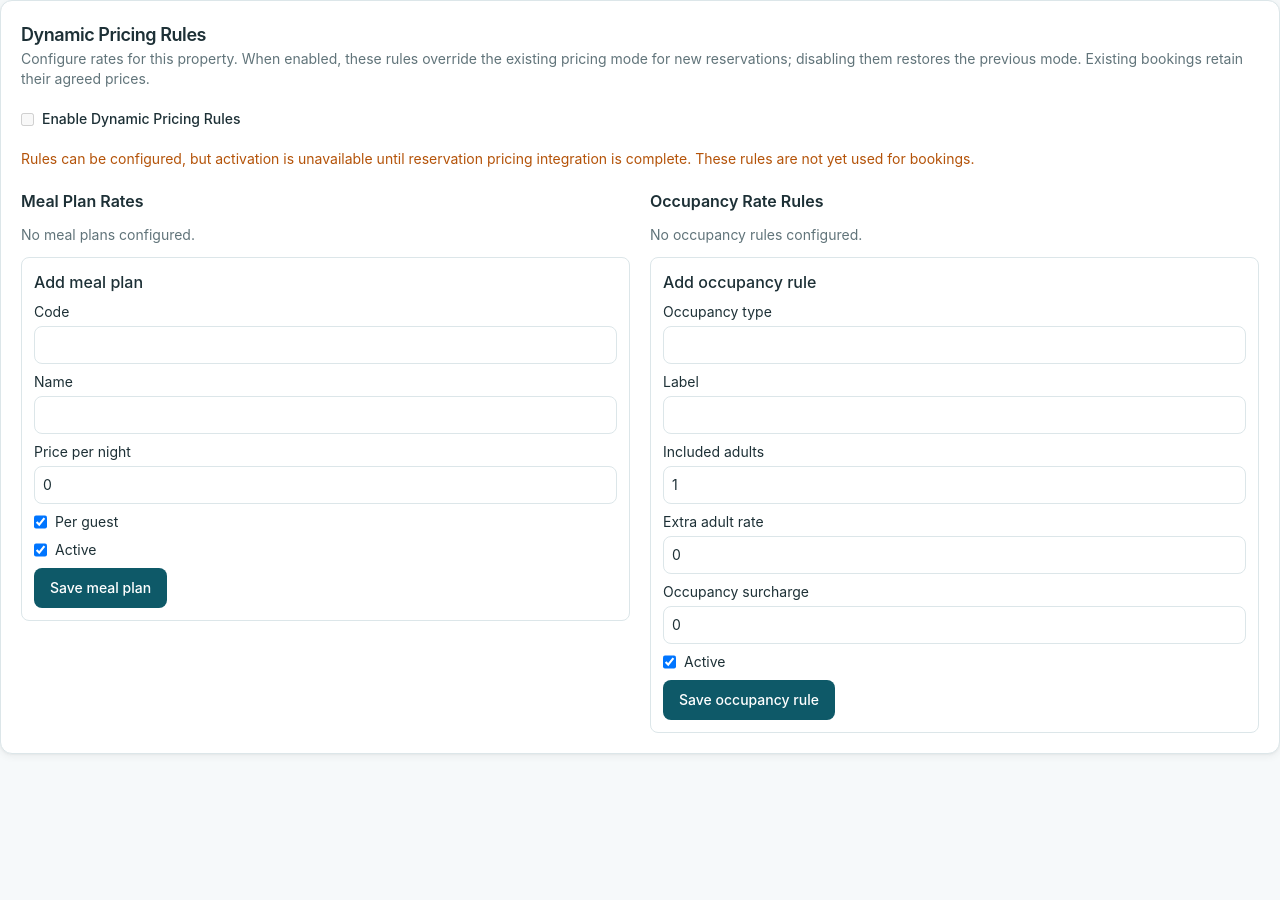
Test: creates a meal rate and shows that activation is unavailable
Expected: the checkbox labelled "Enable Dynamic Pricing Rules" is disabled, [21, 112, 34, 126]
Type "BB" into the field labelled "Code" at (326, 345), box [34, 326, 617, 364]
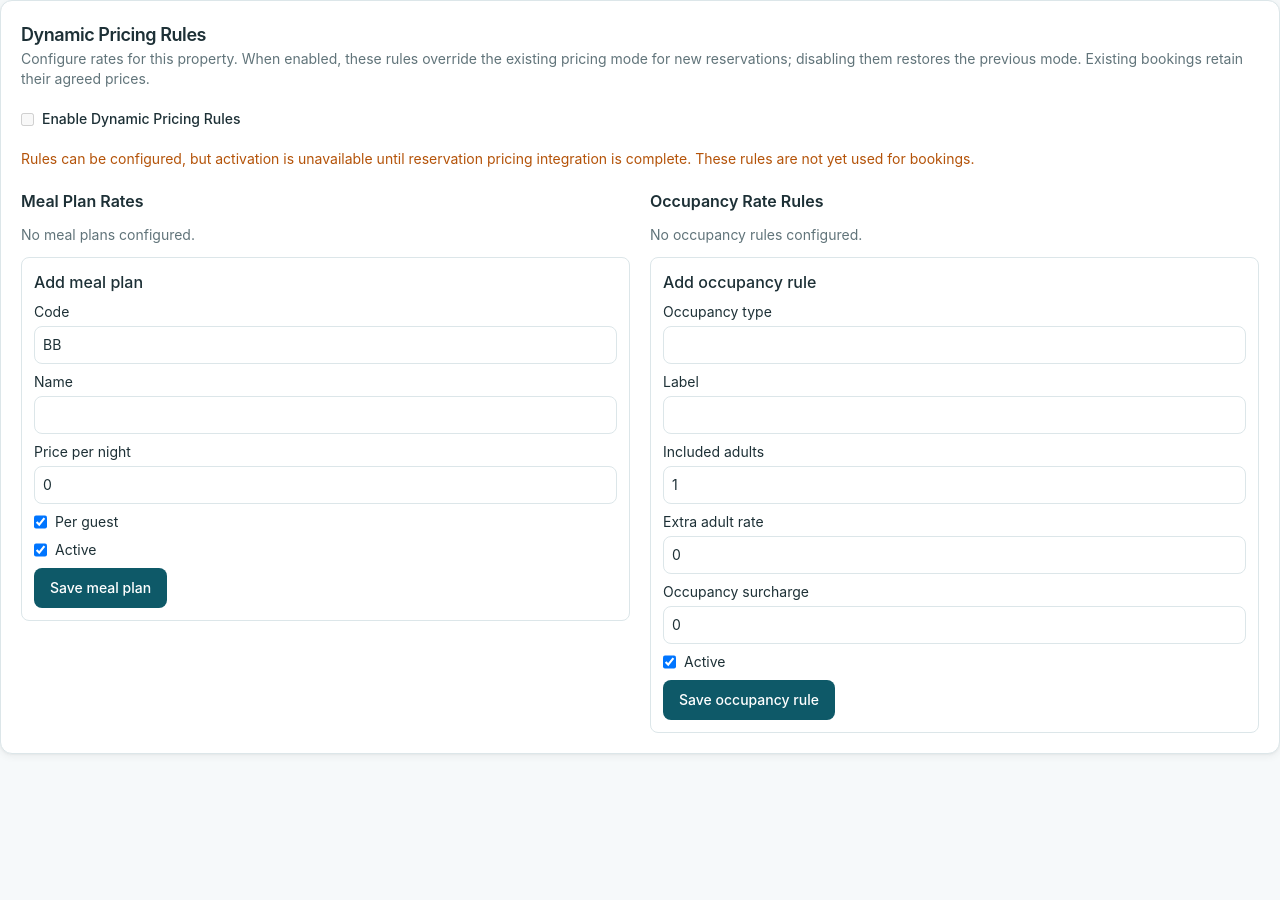
Type "Breakfast" into the field labelled "Name" at (326, 415), box [34, 396, 617, 434]
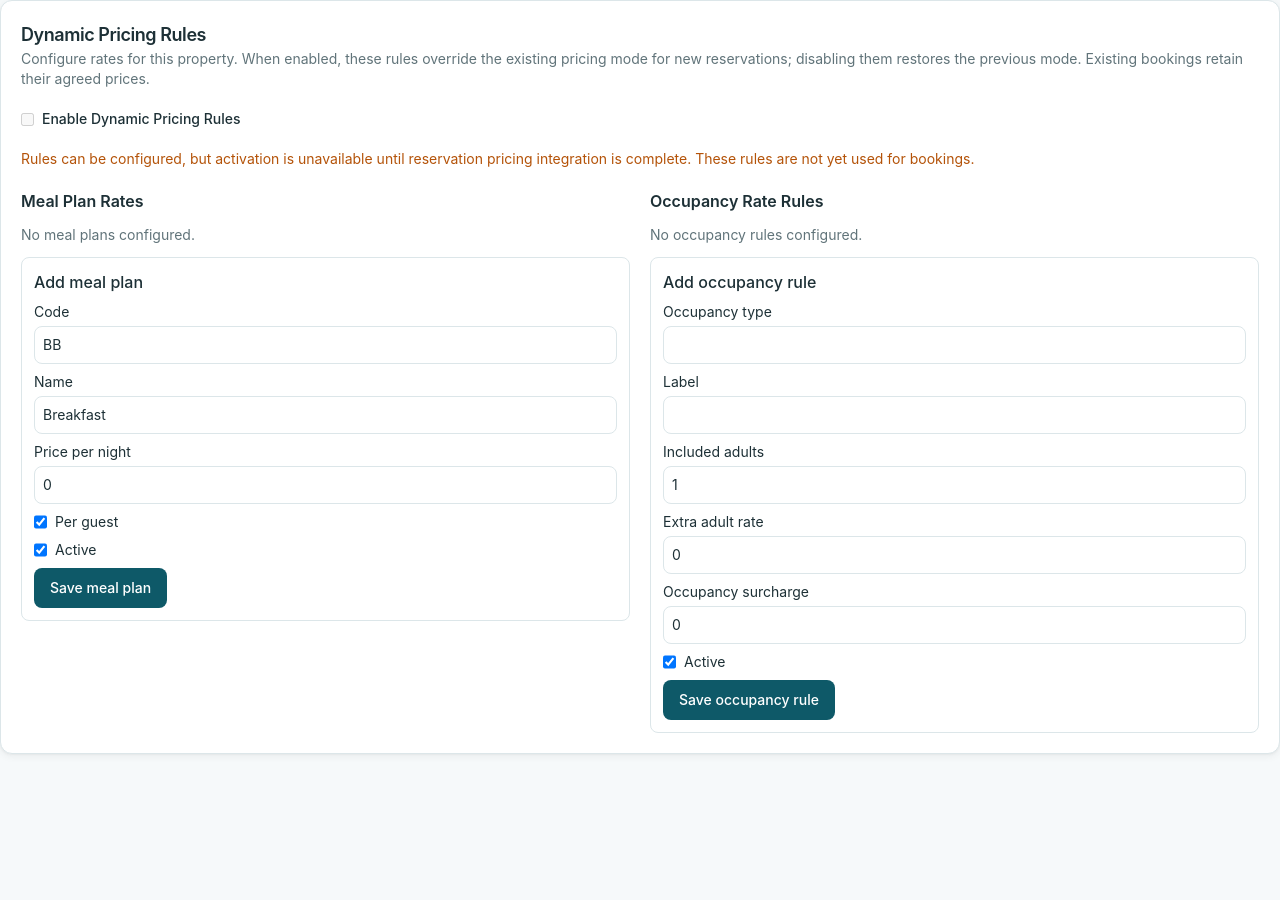
Replace the text in the number field labelled "Price per night" with "250" at (326, 485), box [34, 466, 617, 504]
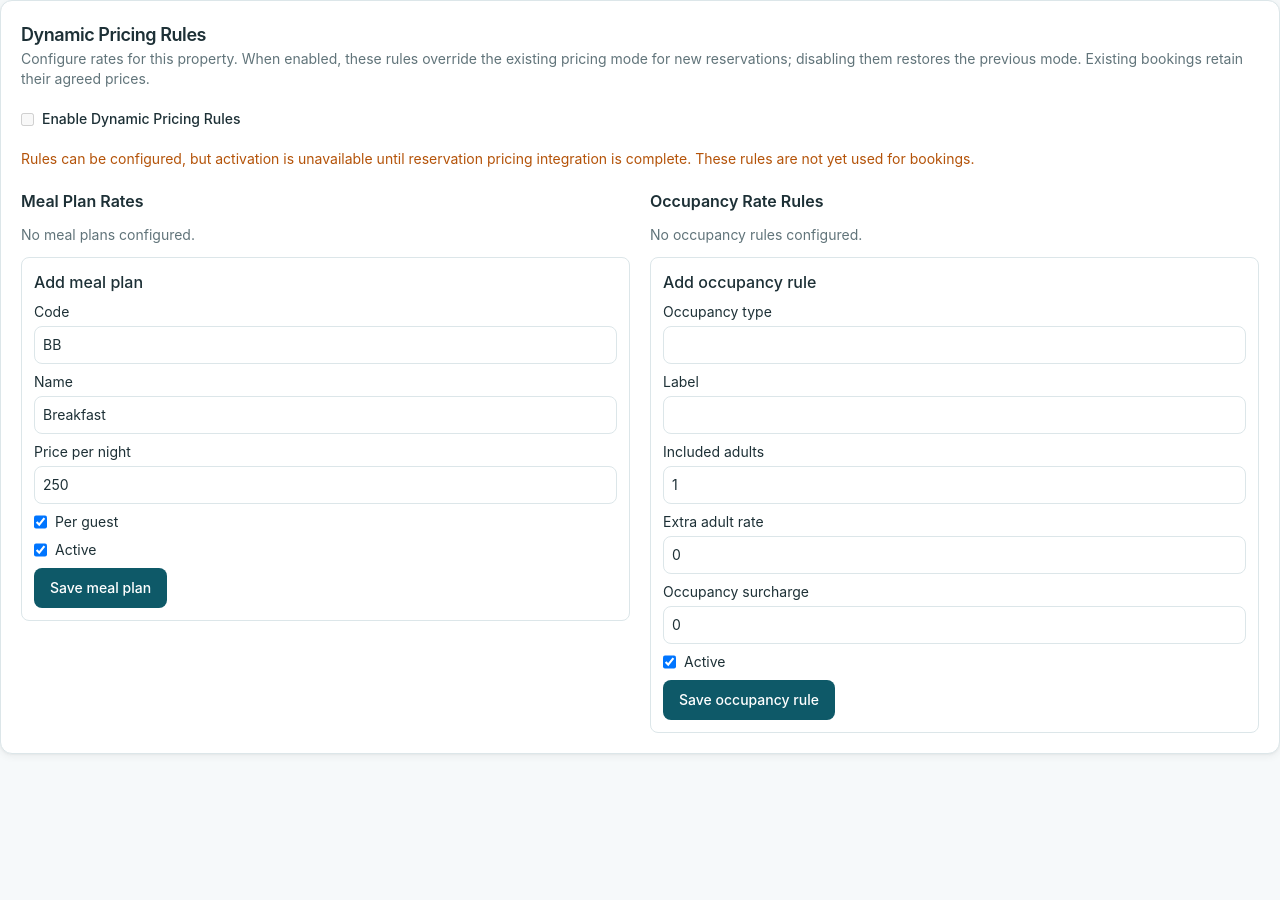
Click the button "Save meal plan" at (101, 588), box [34, 568, 167, 608]
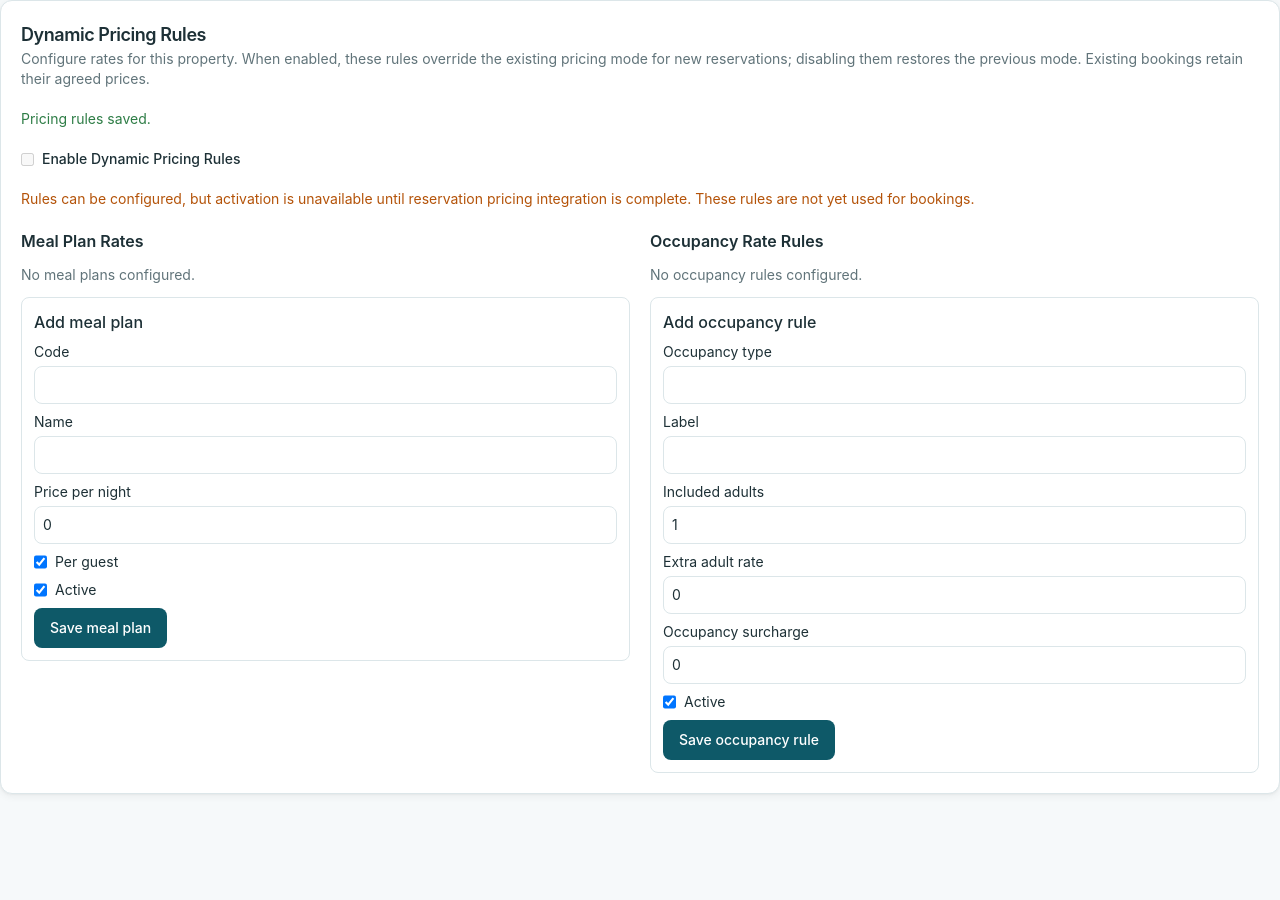
Expected: the message "Pricing rules saved." is shown, [21, 110, 151, 127]
